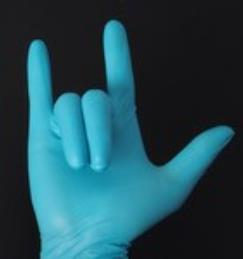back: (22, 15, 236, 232)
